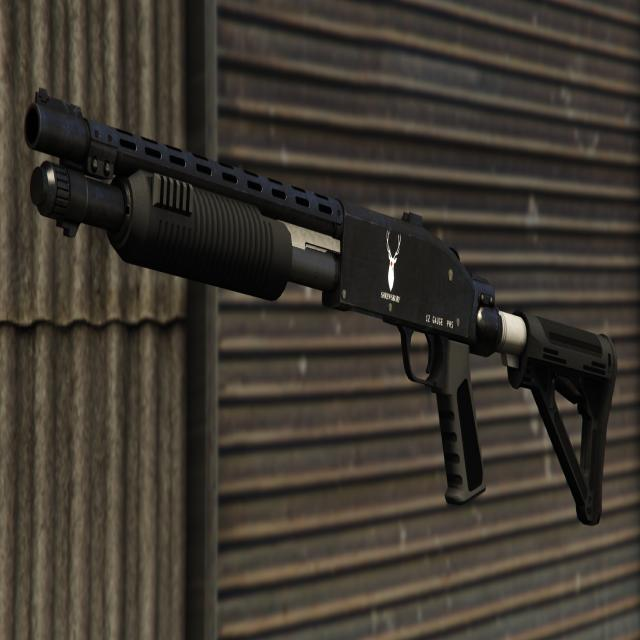ShotGun: (23, 90, 617, 527)
